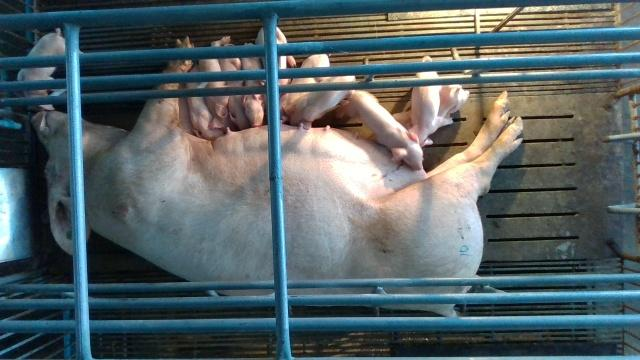piglet: (337, 89, 423, 170), (17, 28, 82, 111), (283, 76, 355, 130), (199, 35, 236, 132), (407, 56, 443, 146), (280, 55, 330, 117), (256, 27, 295, 106), (185, 67, 225, 140), (218, 44, 251, 130), (241, 42, 266, 127)
sow-sleep-lactate: (31, 92, 523, 316)
